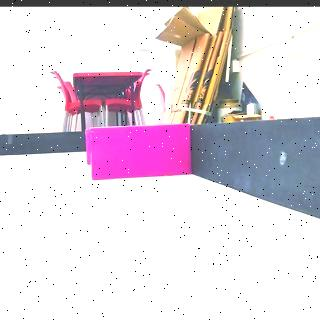xparking: (86, 123, 190, 180)
